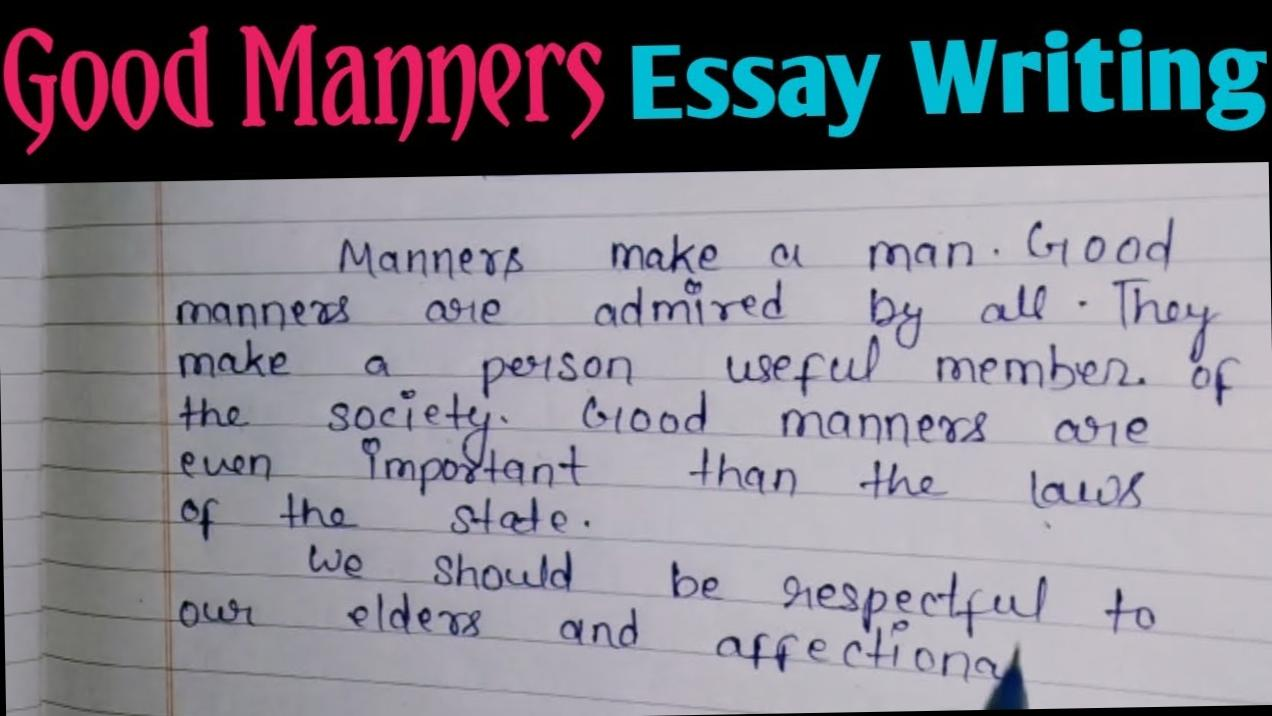text: (0, 1, 1268, 161), (176, 319, 1245, 429), (173, 273, 1224, 384), (306, 524, 1160, 658), (176, 417, 1149, 529), (175, 576, 1006, 699), (177, 372, 1156, 475), (337, 210, 1178, 290), (178, 484, 592, 547)
